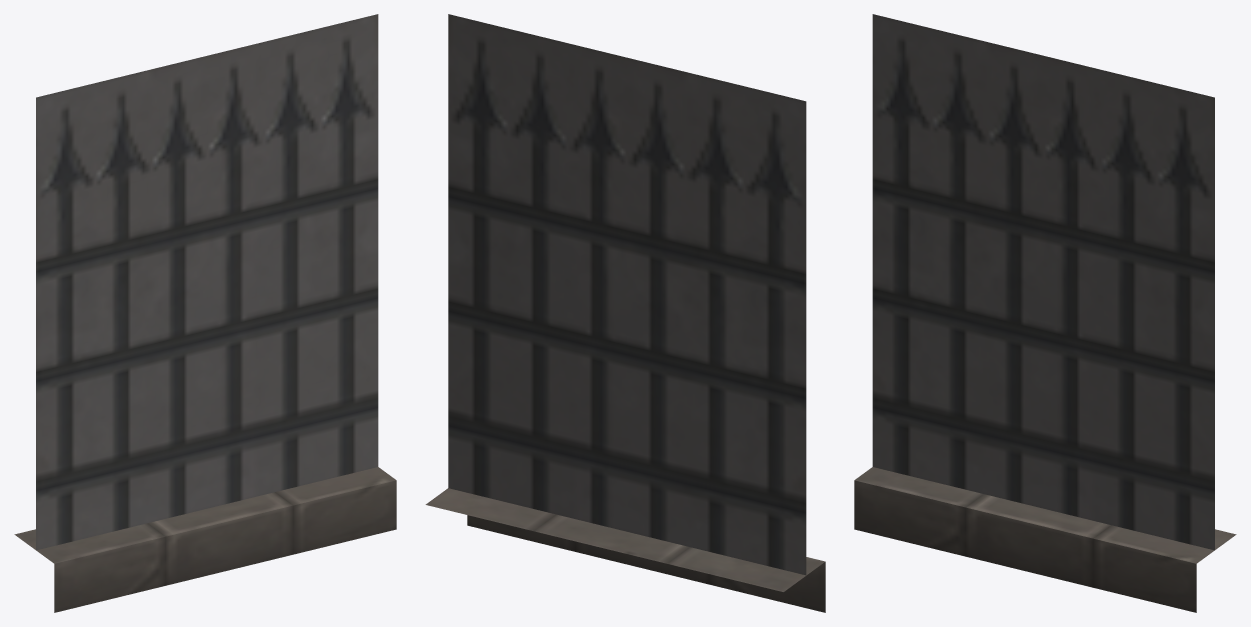
The model's file is dungeon_wall_3.FBX.
3 renders of one model, left to right at view 1: azimuth 30°, elevation 25°; view 2: azimuth 150°, elevation 25°; view 3: azimuth 330°, elevation 25°, orthographic. The views are drawn at different scales.
Visible parts, largest first — view 1: Object009; view 2: Object009; view 3: Object009.
Boxes of the visible parts, bbox=[...] form: Object009: bbox=[14, 14, 396, 612]; Object009: bbox=[425, 14, 825, 612]; Object009: bbox=[854, 14, 1236, 612].
Size of the model in its own units: 47.84 by 67.06 by 9.7.
